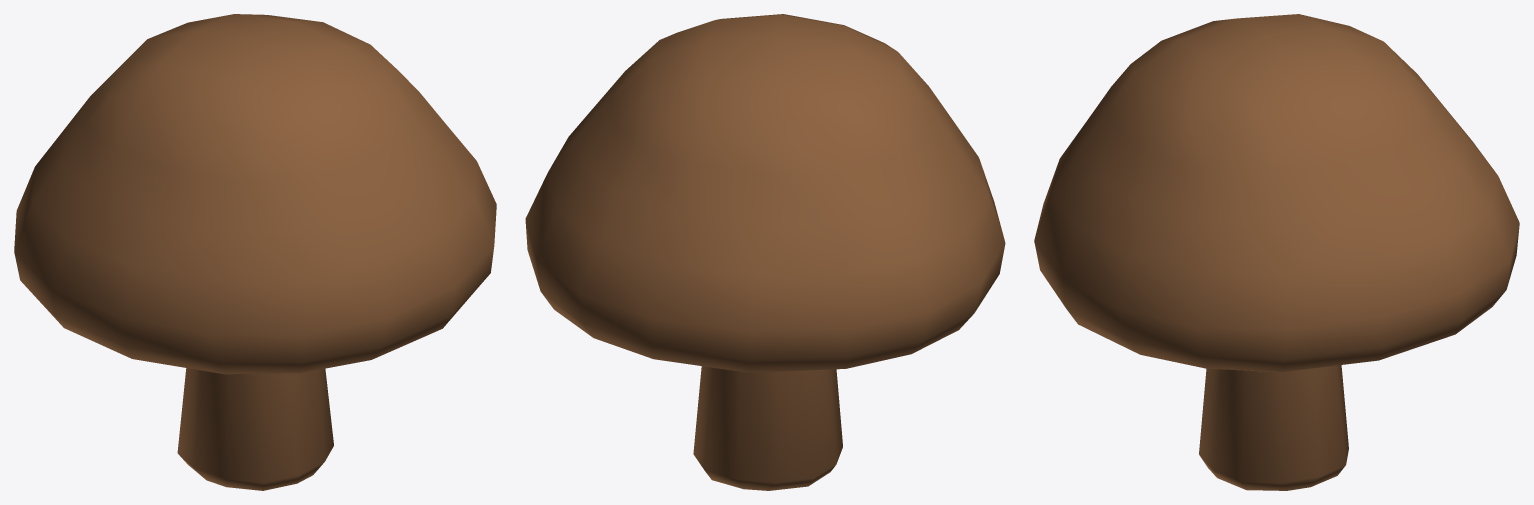
Rendered from shroomFoliage-compressed.glb.
The picture shows the model from 3 angles, left to right: view 1: azimuth 30°, elevation 25°; view 2: azimuth 150°, elevation 25°; view 3: azimuth 270°, elevation 25°; orthographic projection.
Visible parts, largest first — view 1: shroomFoliage; view 2: shroomFoliage; view 3: shroomFoliage.
Boxes of the visible parts, <box> form: shroomFoliage: <box>14,14,496,490</box>; shroomFoliage: <box>525,14,1005,490</box>; shroomFoliage: <box>1034,14,1519,490</box>.
Bounding box in the file's own units: 0.4649 × 0.45 × 0.4649.
